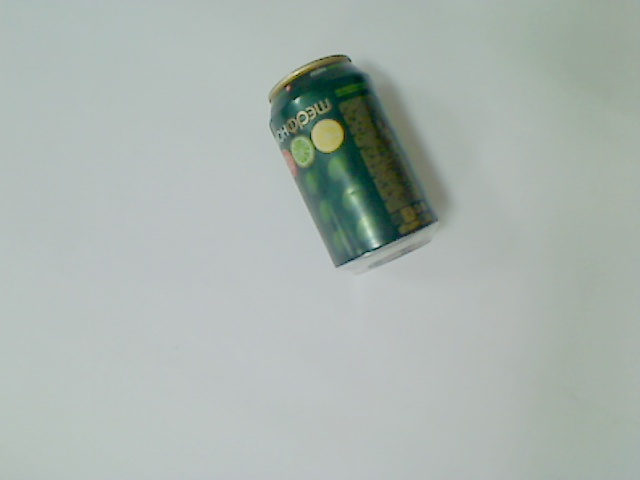can: (267, 53, 443, 275)
